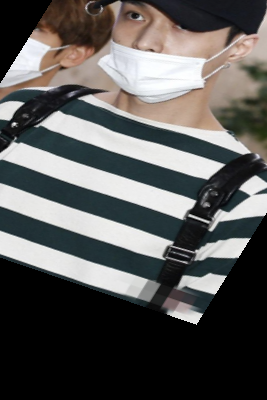mask_weared_incorrect: (80, 1, 265, 118)
